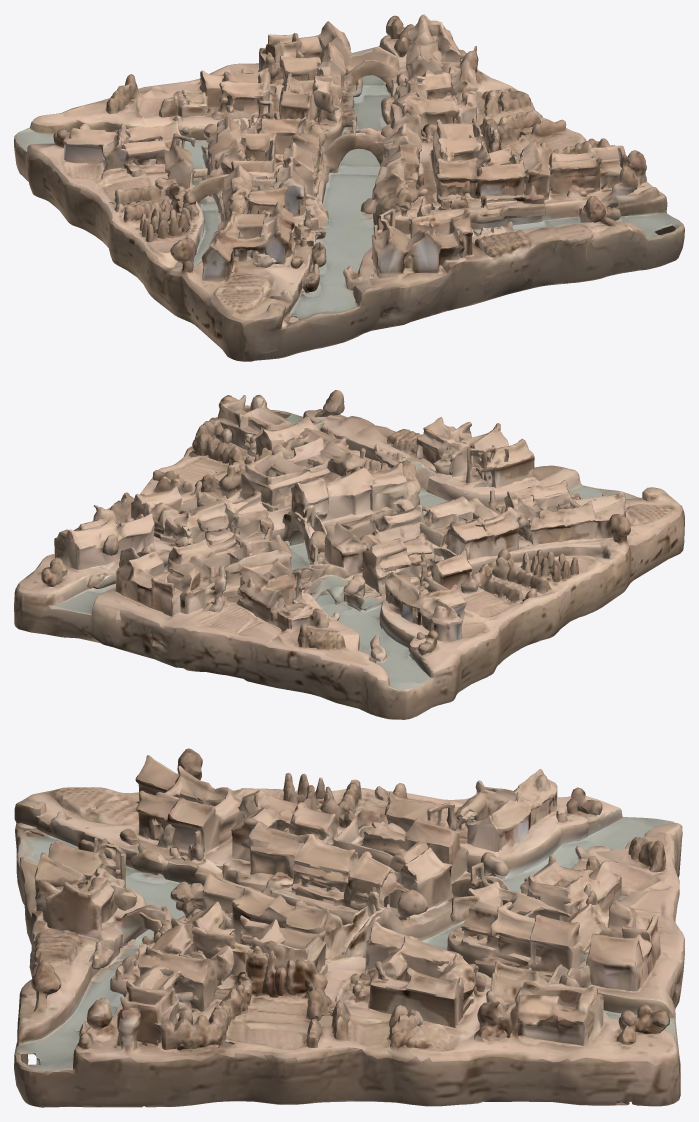
Rendered from xinxinqiao.min.glb.
The picture shows the model from 3 angles, top to bottom: view 1: azimuth 30°, elevation 25°; view 2: azimuth 150°, elevation 25°; view 3: azimuth 270°, elevation 25°; orthographic projection. The views are drawn at different scales.
Visible parts, largest first — view 1: geometry_0; view 2: geometry_0; view 3: geometry_0.
Boxes of the visible parts, x1,y1,x2,y2 form: geometry_0: (14,14,684,361); geometry_0: (14,390,684,719); geometry_0: (14,748,684,1107).
Size of the model in its own units: 0.4496 by 0.0834 by 0.4663.
1 material, 1 textured.
